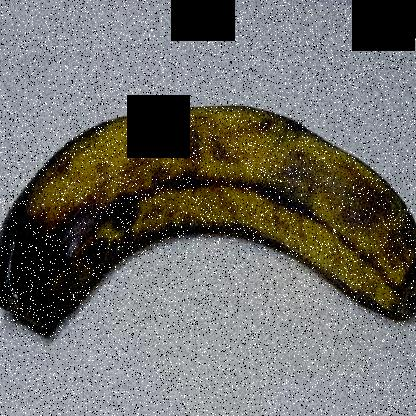overripe: (0, 72, 415, 415)
rotten: (0, 168, 140, 328)
